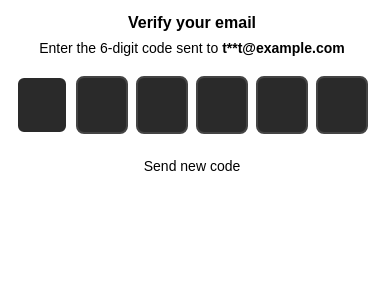
Test: EmailVerification › shows error on invalid_code with attempts remaining
In the field named "Digit 1": [42, 105] box x1=16 y1=76 x2=68 y2=134, type "0"
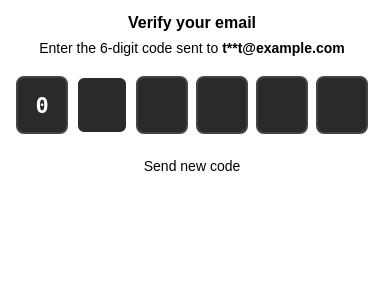
In the field named "Digit 2": [102, 105] box x1=76 y1=76 x2=128 y2=134, type "0"
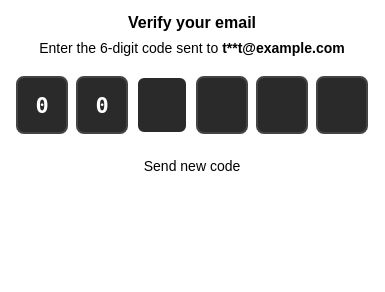
In the field named "Digit 3": [162, 105] box x1=136 y1=76 x2=188 y2=134, type "0"
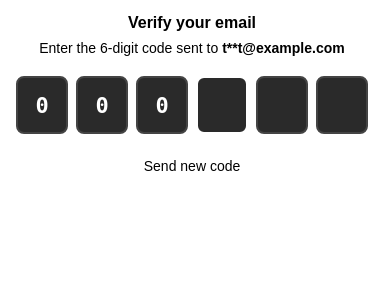
In the field named "Digit 4": [222, 105] box x1=196 y1=76 x2=248 y2=134, type "0"
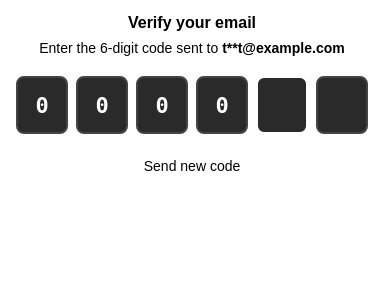
In the field named "Digit 5": [282, 105] box x1=256 y1=76 x2=308 y2=134, type "0"
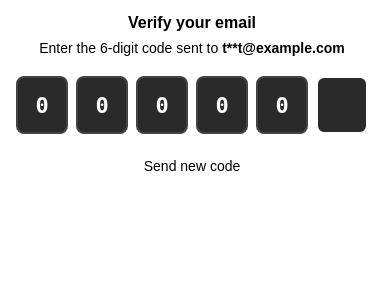
In the field named "Digit 6": [342, 105] box x1=316 y1=76 x2=368 y2=134, type "0"
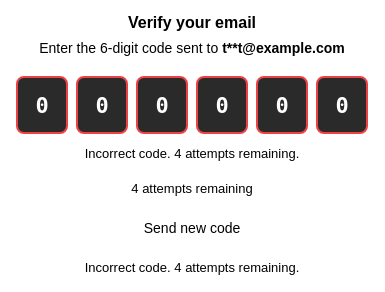
Check: the text "Incorrect code. 4 attempts remaining." is shown 2 times, box x1=85 y1=146 x2=299 y2=161; x1=85 y1=260 x2=299 y2=275
Check: the text "4 attempts remaining" is shown, box x1=131 y1=181 x2=253 y2=196
